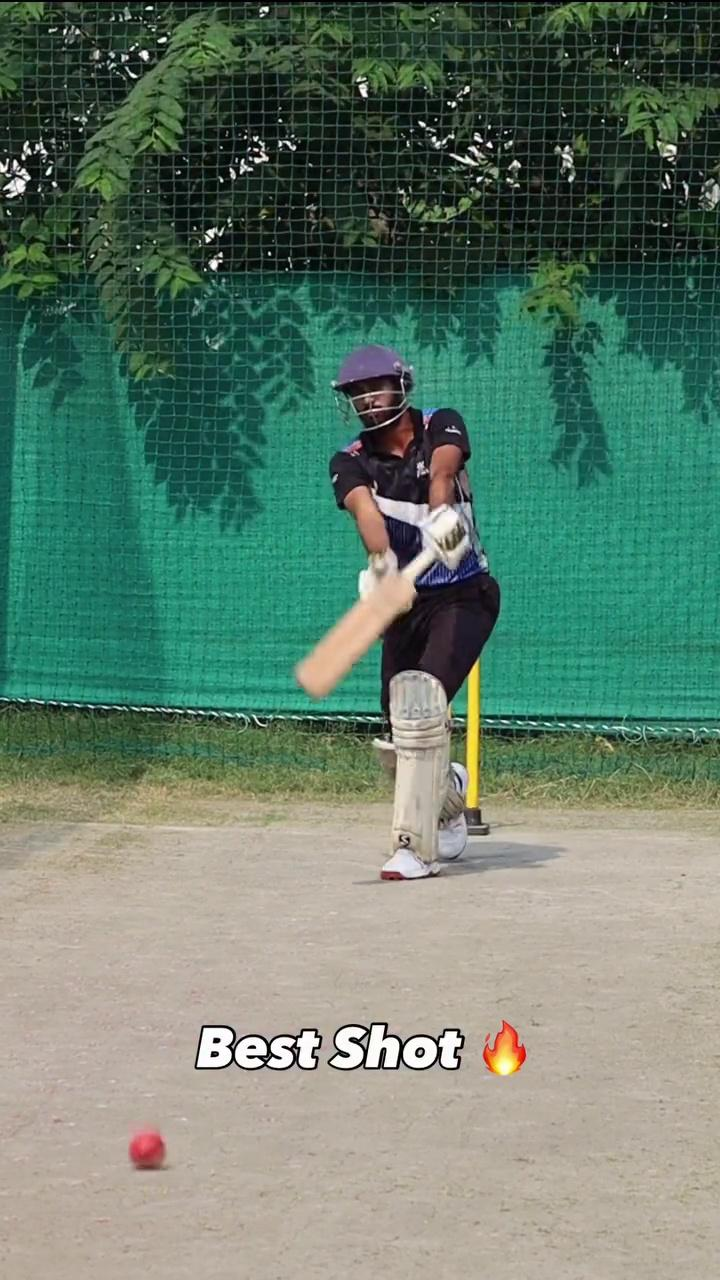bat: (288, 565, 424, 703)
